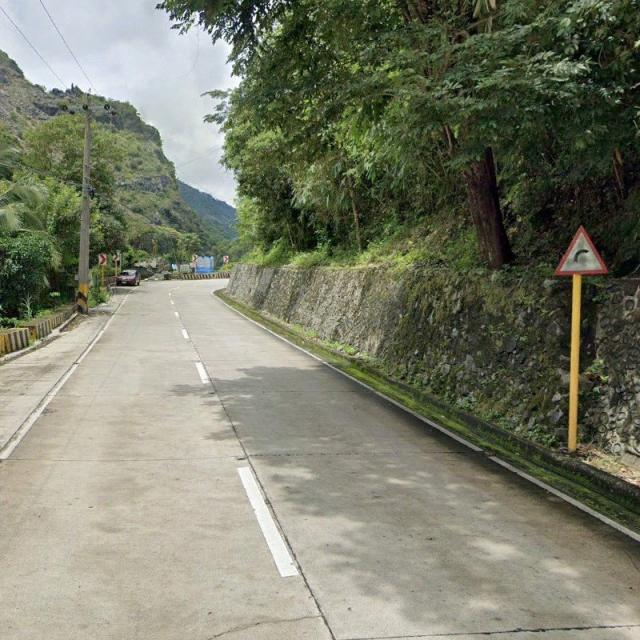warn_right_curve: (555, 227, 608, 275)
